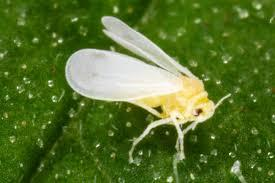Tobacco Whitefly: (67, 15, 217, 145)
